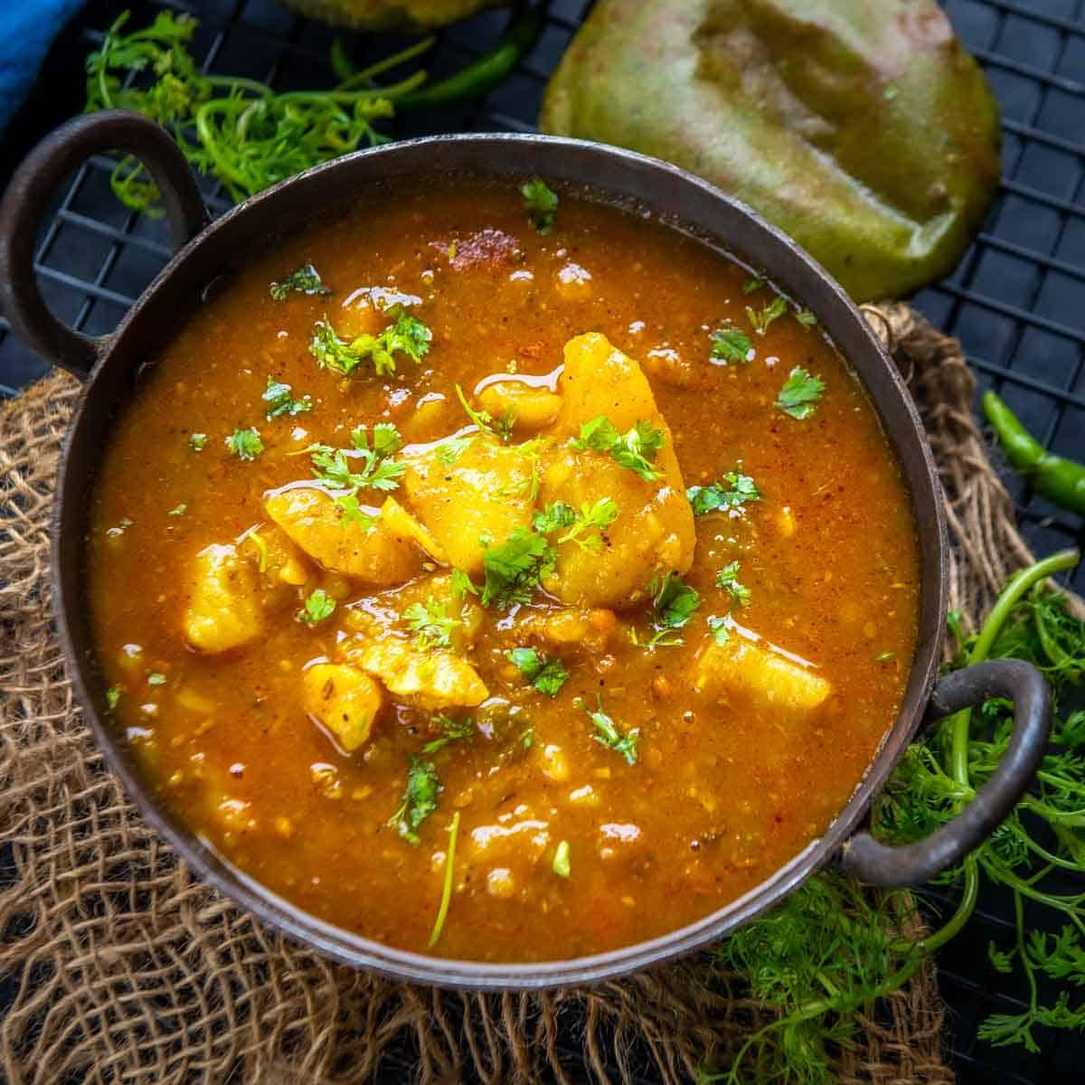aloo sabji: (91, 218, 945, 882)
